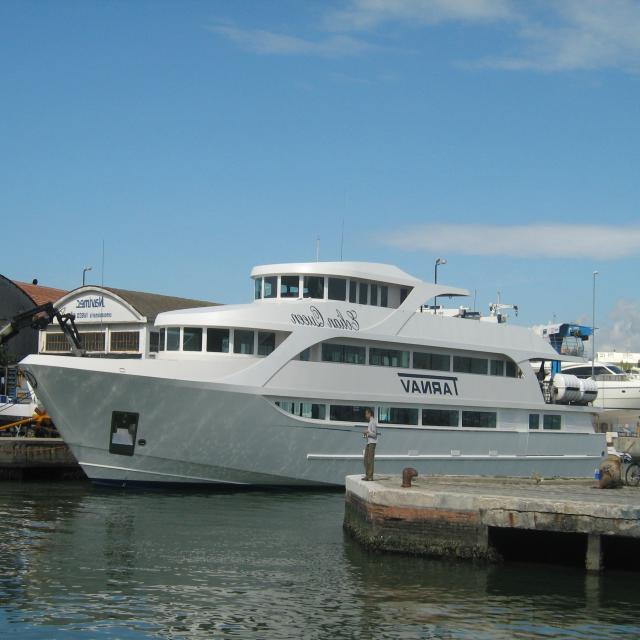cargoship: (21, 251, 612, 490)
